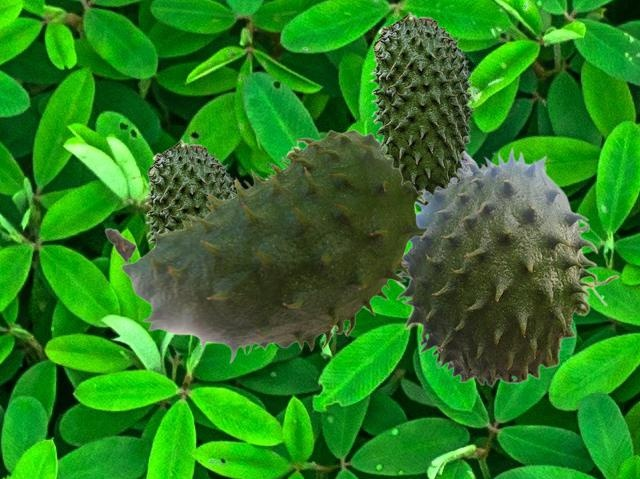guyabano: (104, 129, 428, 363), (395, 145, 619, 387), (369, 11, 474, 195), (144, 139, 235, 247)
